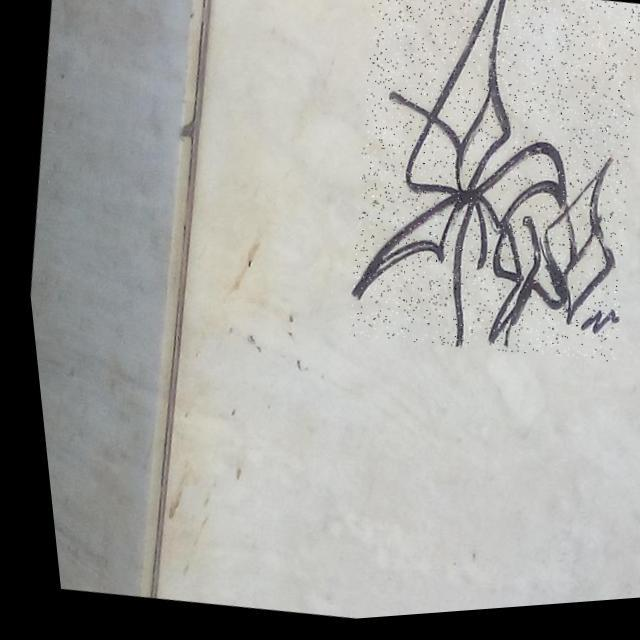-: (312, 0, 640, 386)
